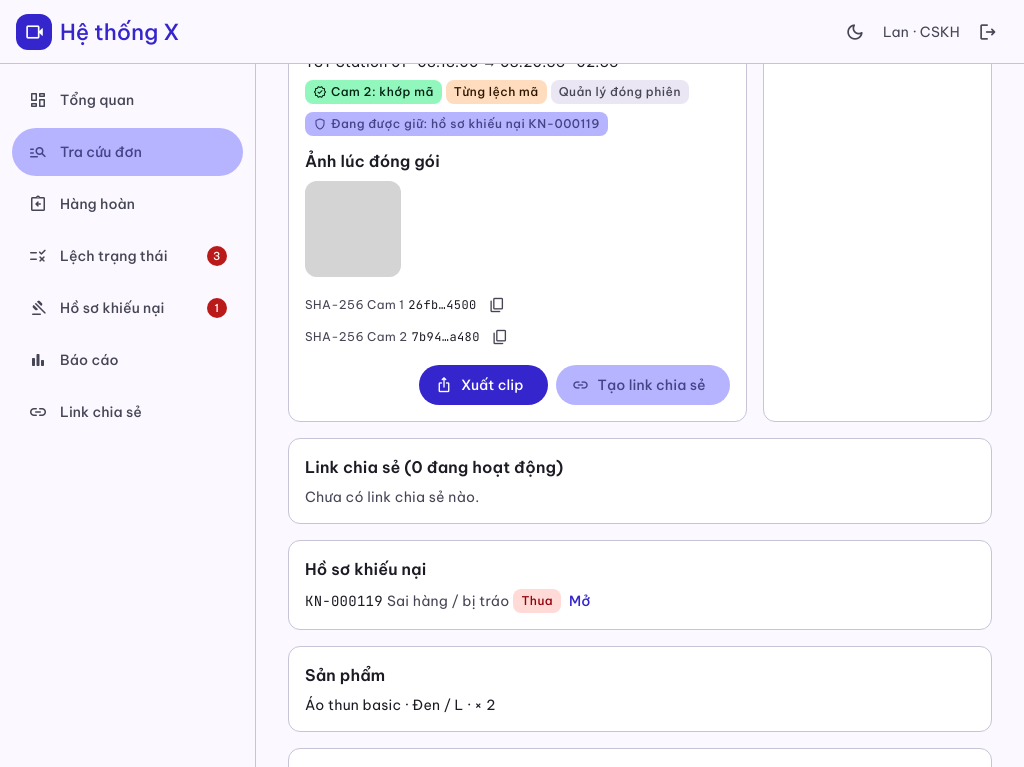
Test: chọn Cam 1 → API-43 layout CAM1
(page scrolled)
Click the button "Xuất clip" at (483, 385), box [419, 365, 548, 405]
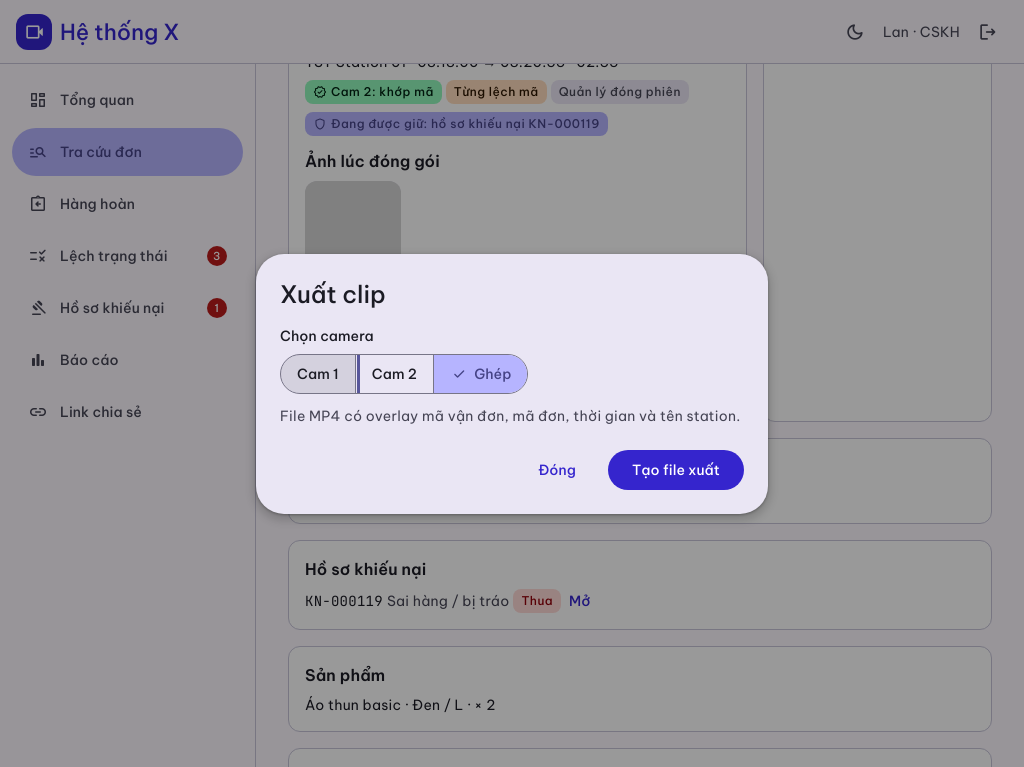
Click the button "Cam 1" at (318, 374), box [281, 355, 355, 393]
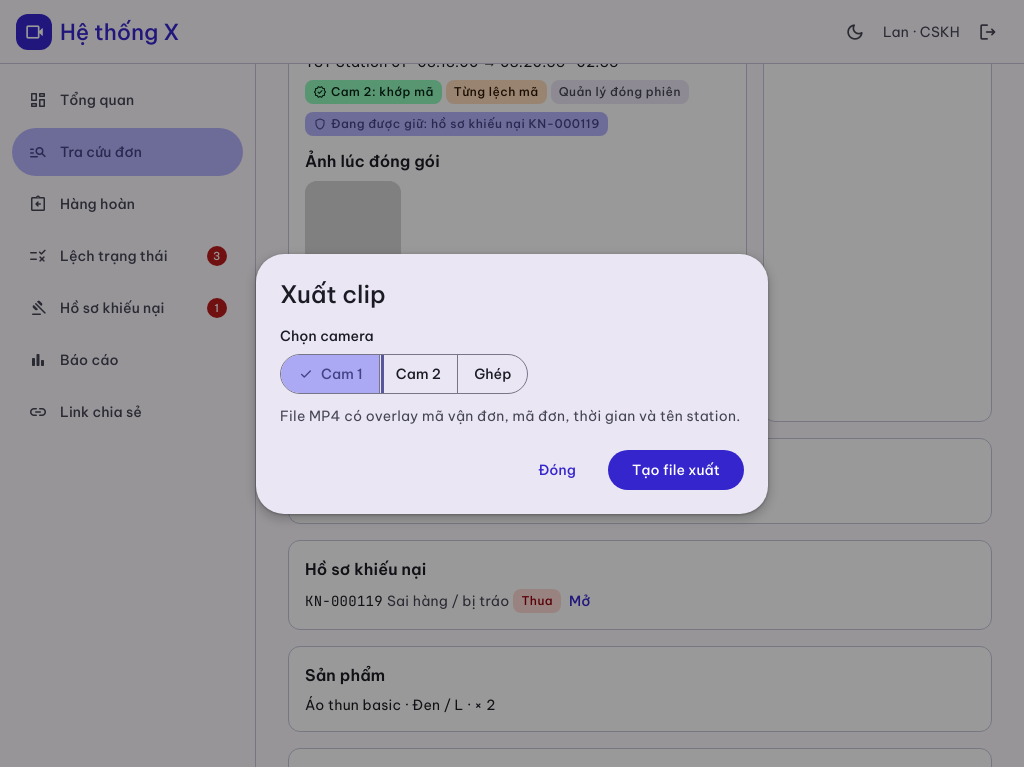
Click the button "Tạo file xuất" at (676, 470), box [608, 450, 744, 490]
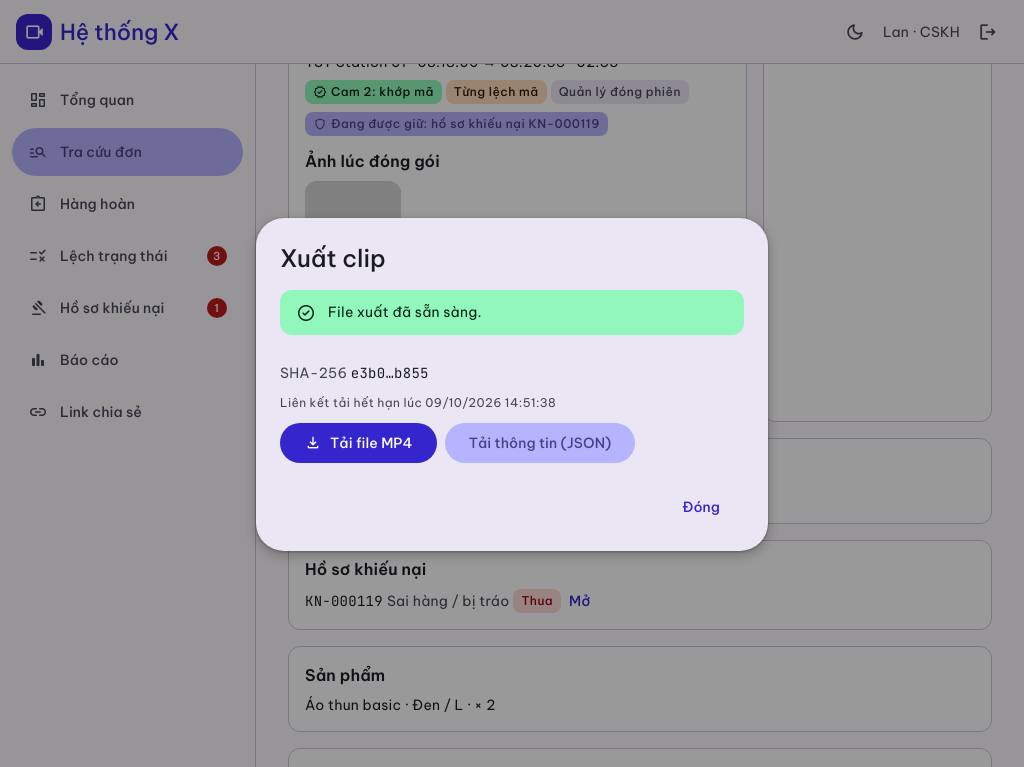
Expected: the link "Tải file MP4" is shown, [280, 422, 437, 462]
